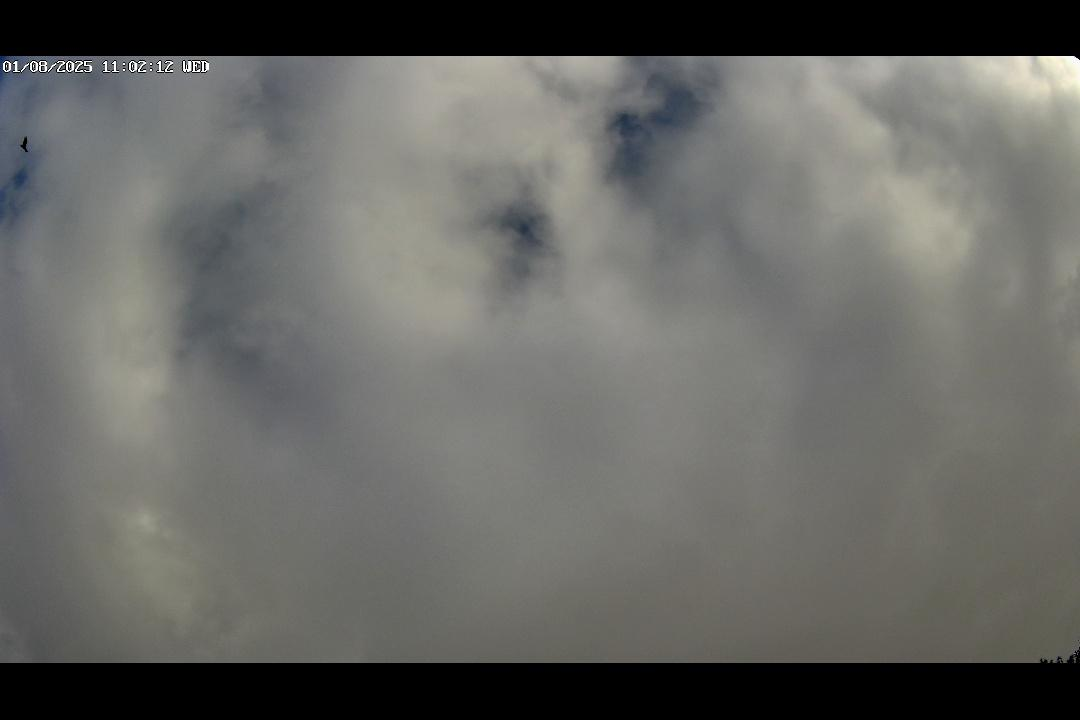WildLife: (16, 126, 41, 161)
